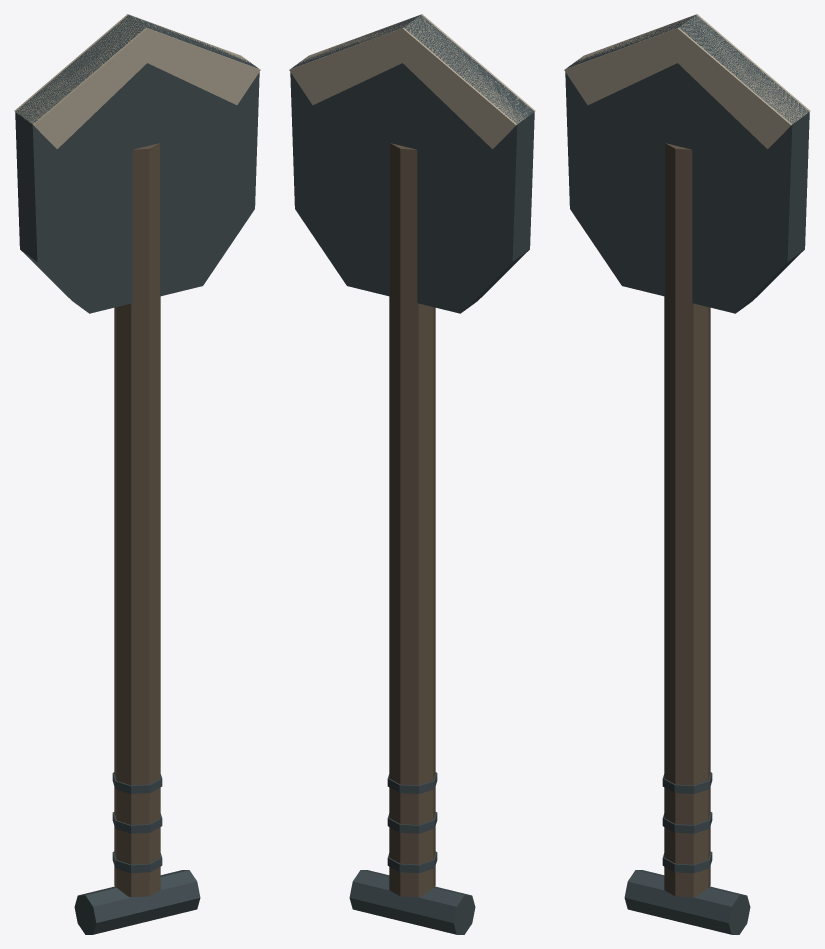
The model's file is Equip_Shovel.fbx.
3 renders of one model, left to right at view 1: azimuth 30°, elevation 25°; view 2: azimuth 150°, elevation 25°; view 3: azimuth 330°, elevation 25°, orthographic.
Parts seen in each view (by area): view 1: Equip_Shovel; view 2: Equip_Shovel; view 3: Equip_Shovel.
Boxes of the visible parts, left/top/right/bottom form: Equip_Shovel: left=14, top=14, right=260, bottom=934; Equip_Shovel: left=289, top=14, right=535, bottom=934; Equip_Shovel: left=564, top=14, right=810, bottom=934.
Bounding box in the file's own units: 0.48 × 1.82 × 0.094.
